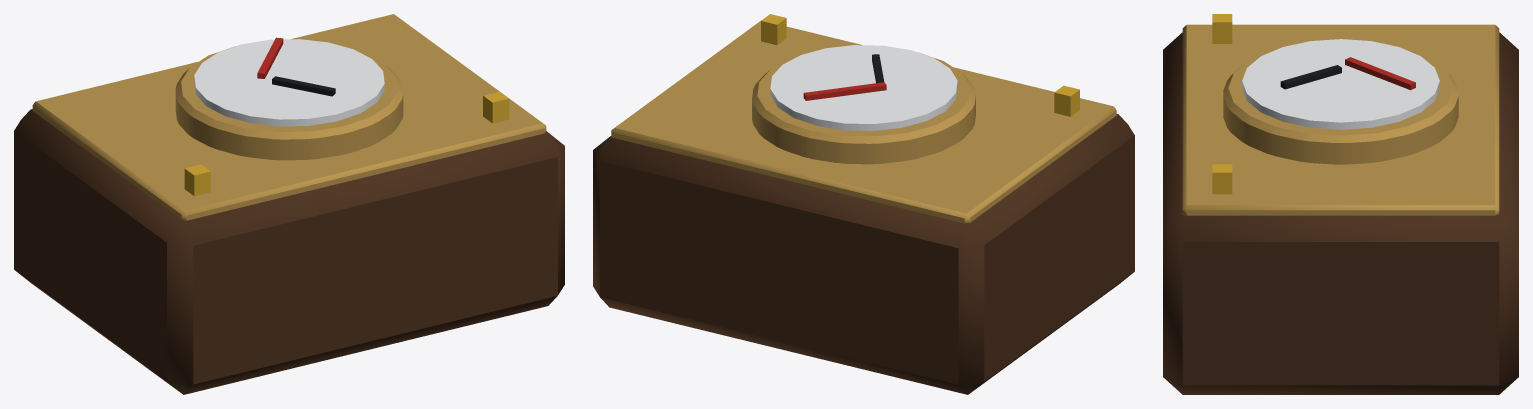
Rendered from instrument_brass_chronometer.glb.
3 views of the same model, side by side, from view 1: azimuth 30°, elevation 25°; view 2: azimuth 150°, elevation 25°; view 3: azimuth 270°, elevation 25° (orthographic). The views are drawn at different scales.
Visible parts, largest first — view 1: instrument_brass_chronometer; view 2: instrument_brass_chronometer; view 3: instrument_brass_chronometer.
Part boxes in pixels (left/top/right/bottom): instrument_brass_chronometer: left=14, top=14, right=564, bottom=394; instrument_brass_chronometer: left=593, top=14, right=1134, bottom=394; instrument_brass_chronometer: left=1163, top=14, right=1518, bottom=394.
Size of the model in its own units: 0.24 by 0.1295 by 0.18.
